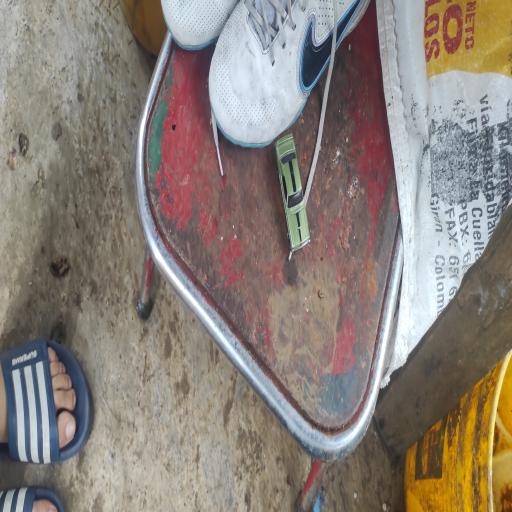Carrito: (275, 134, 310, 252)
